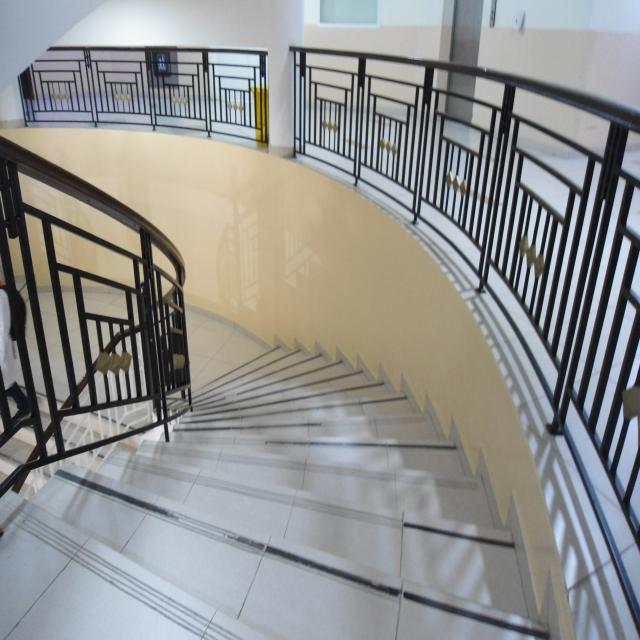lift: (450, 0, 483, 66), (448, 72, 475, 96), (446, 97, 472, 120)
railing: (292, 47, 640, 551), (0, 138, 192, 496), (20, 46, 269, 142)
stairs: (0, 310, 560, 640)
wall: (192, 92, 196, 100)
